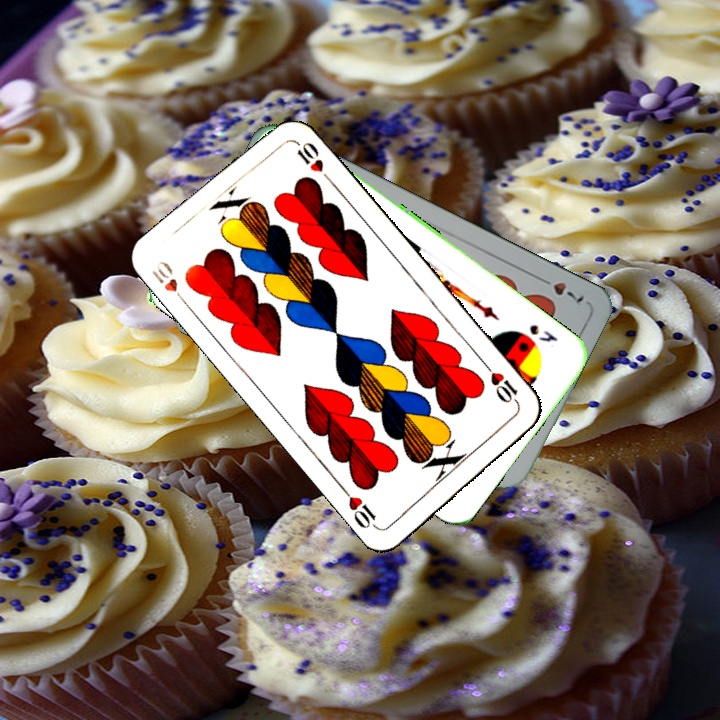H10: (147, 256, 191, 309), (480, 359, 523, 409)
H7: (533, 272, 587, 306)
SK: (525, 320, 561, 345)
